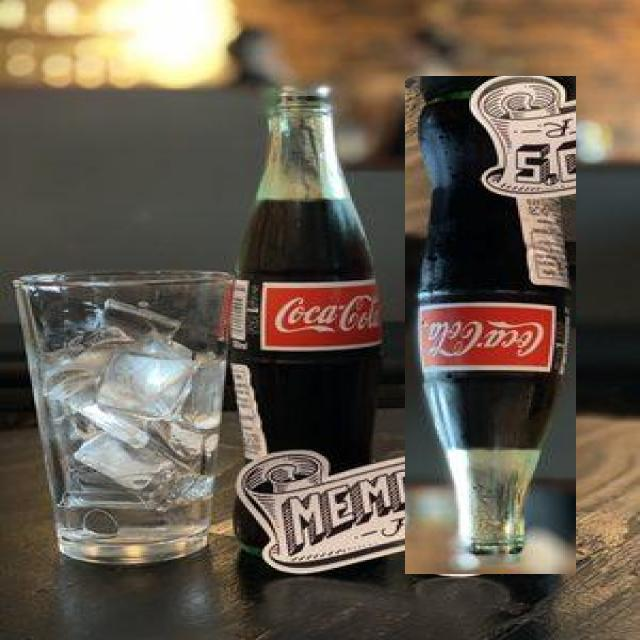coca-cola: (405, 76, 576, 574), (230, 82, 384, 550)
